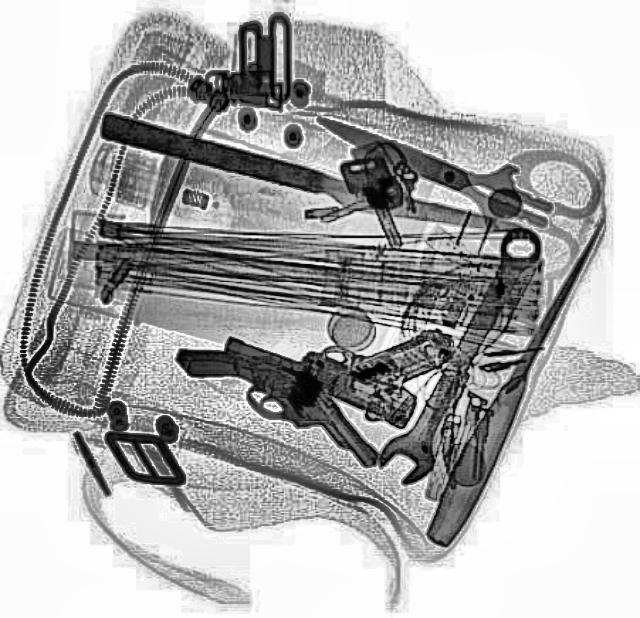Gun: (172, 302, 382, 506), (217, 259, 458, 433)
Knife: (422, 211, 608, 547), (93, 112, 521, 251), (298, 94, 564, 242)
Wrench: (368, 218, 554, 492)
